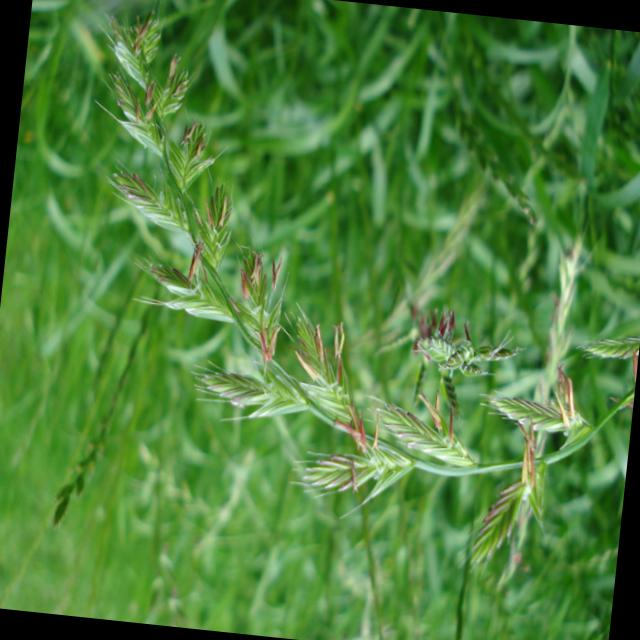Lolium: (44, 0, 640, 593)
